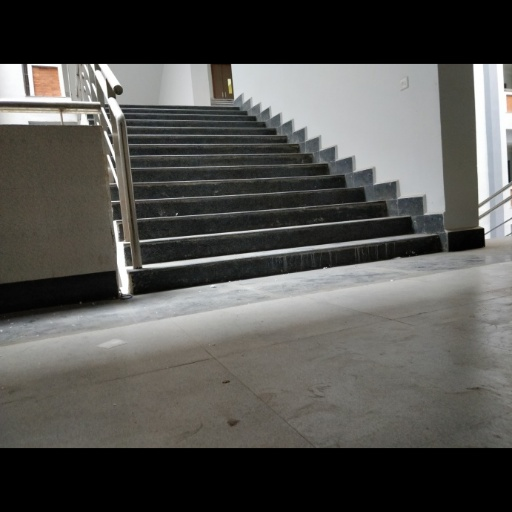Stairs: (112, 107, 441, 293)
